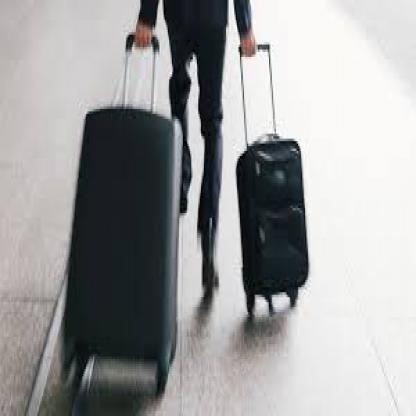maleta: (61, 102, 196, 406), (228, 134, 317, 322)
